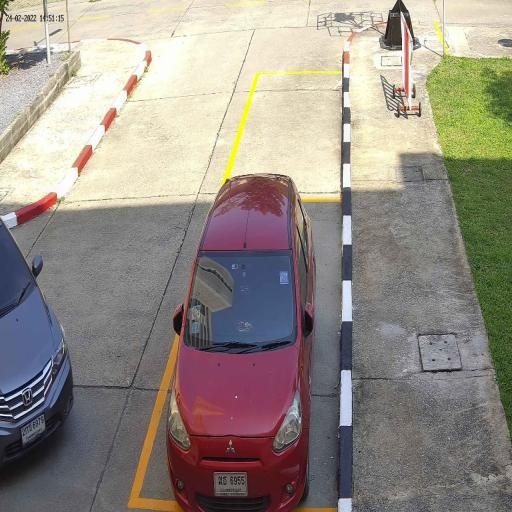car: (164, 170, 317, 512), (0, 217, 76, 470)
